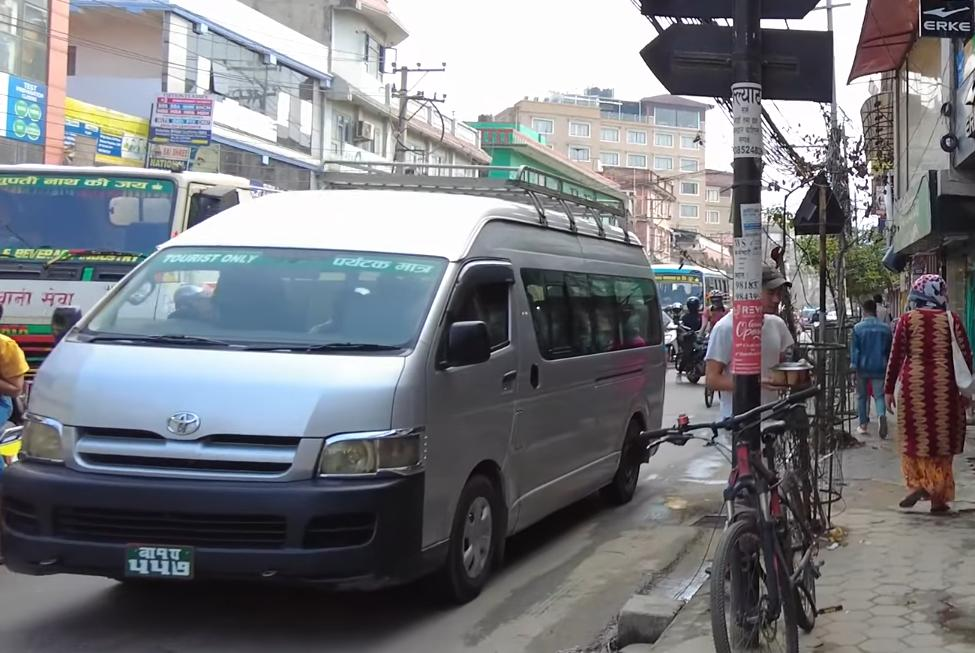micro_bus: (0, 150, 686, 624)
